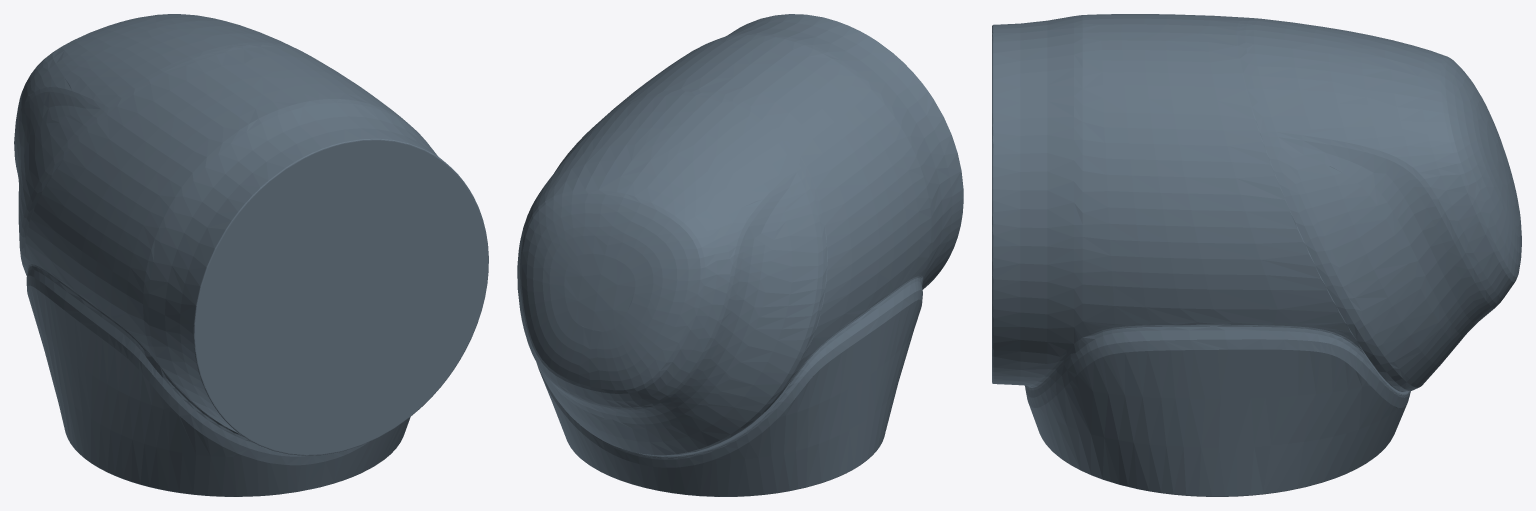
3 views of the same model, side by side, from view 1: azimuth 30°, elevation 25°; view 2: azimuth 150°, elevation 25°; view 3: azimuth 270°, elevation 25° (orthographic). The views are drawn at different scales.
Parts seen in each view (by area): view 1: H2515_4_1; view 2: H2515_4_1; view 3: H2515_4_1.
Part boxes in pixels (x1,y1,x2,y2): H2515_4_1: (14,14,488,496); H2515_4_1: (517,14,963,496); H2515_4_1: (992,14,1521,496).
Bounding box in the file's own units: 143 × 193 × 156.
